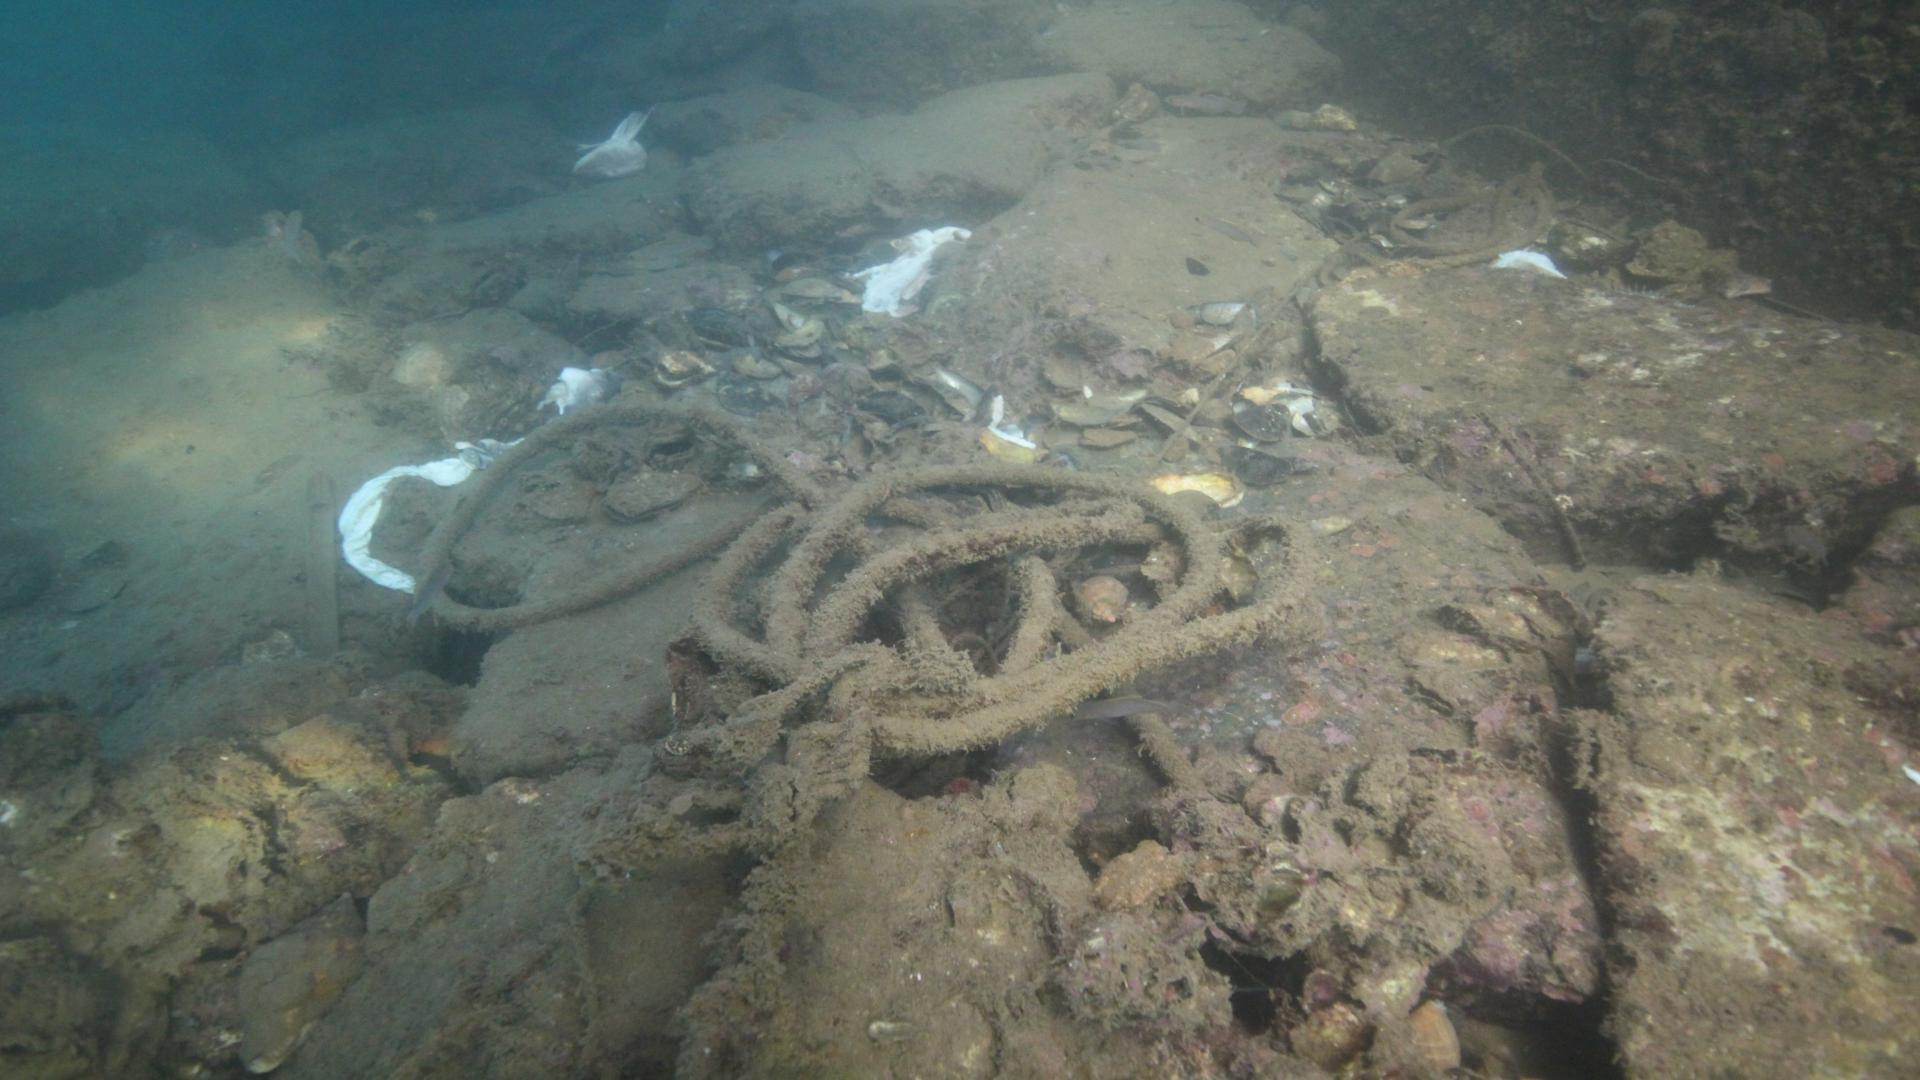bundle of ropes: (415, 393, 1319, 862)
